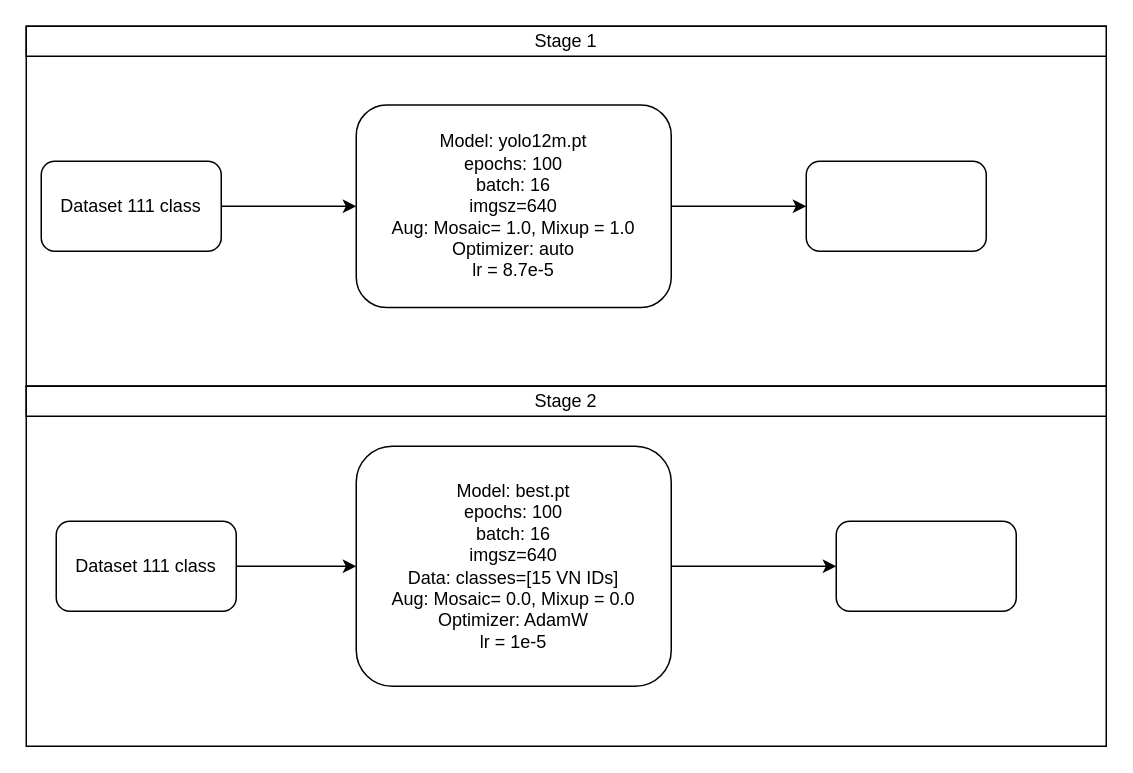
The diagram is 1133 pixels wide and 773 high, and some of its shapes have lost their labels. The centre of each missing label's shape, as x and y in pixels:
best.pt (mAP 0.533): (895,205)
vietbest.pt (mAP 0.811): (925,565)
